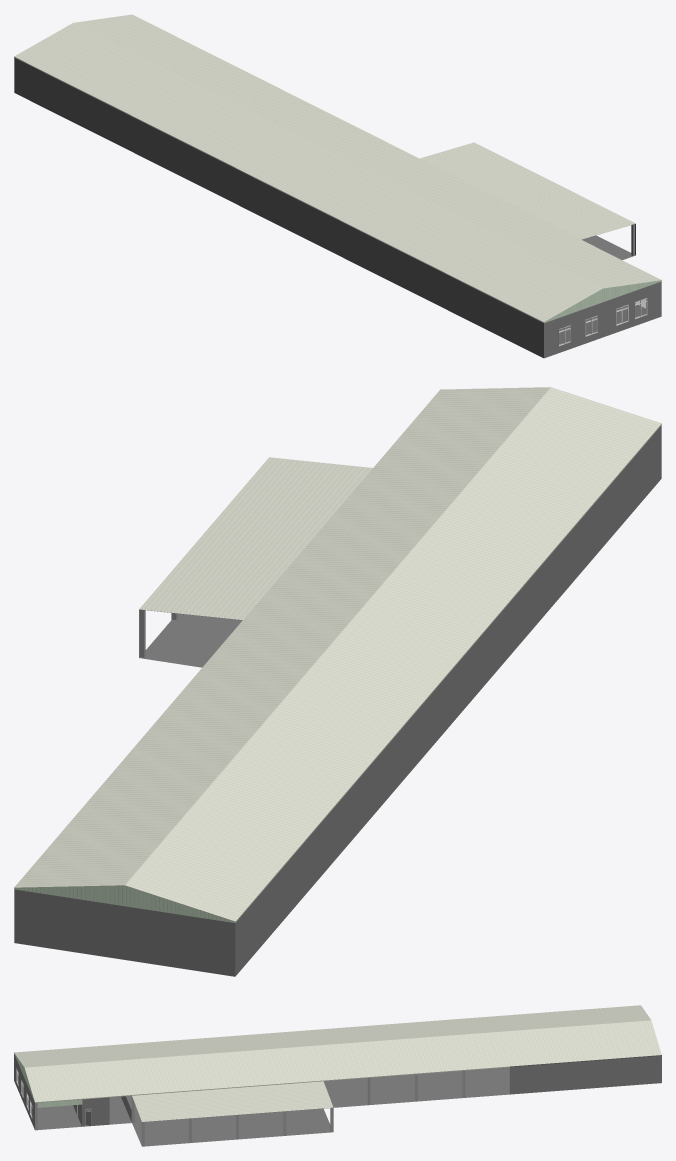
3 views of the same model, one above another, from view 1: azimuth 30°, elevation 25°; view 2: azimuth 150°, elevation 25°; view 3: azimuth 270°, elevation 25° (orthographic). The views are drawn at different scales.
Parts seen in each view (by area): view 1: 水肥#1; view 2: 水肥#1; view 3: 水肥#1.
Boxes of the visible parts, x1,y1,x2,y2 form: 水肥#1: [14, 14, 661, 358]; 水肥#1: [14, 387, 661, 976]; 水肥#1: [14, 1005, 661, 1146].
Bounding box in the file's own units: 30.34 × 4.73 × 73.26.
8 materials, 5 textured.
